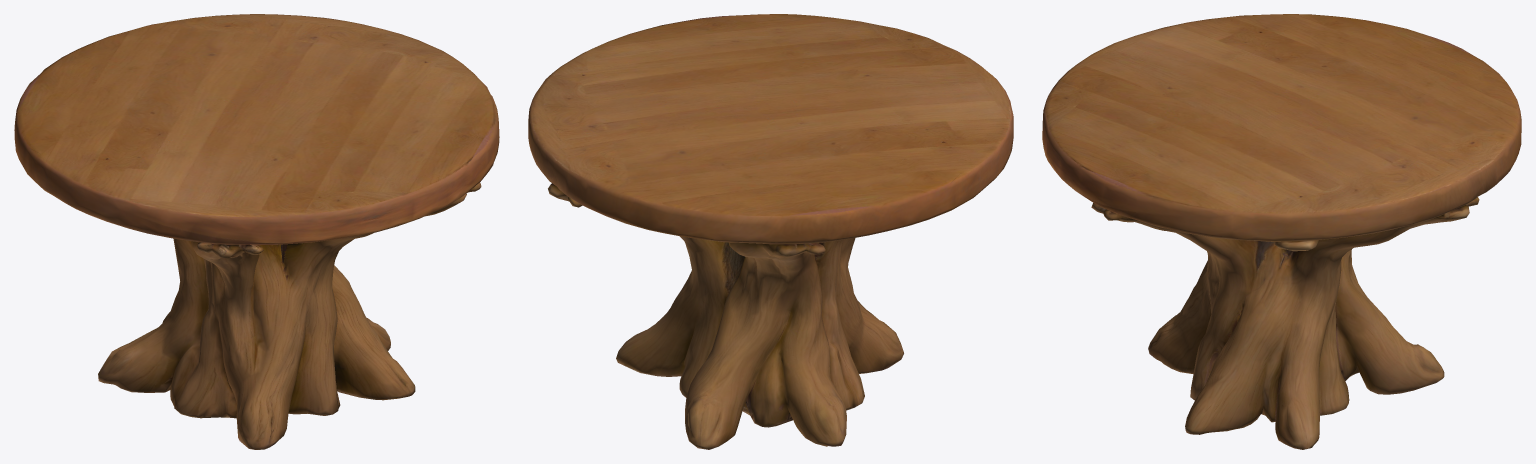
File: Meshy_AI_TREE_TABLE_0301170710_texture.glb
3 views of the same model, side by side, from view 1: azimuth 30°, elevation 25°; view 2: azimuth 150°, elevation 25°; view 3: azimuth 270°, elevation 25° (orthographic).
Size of the model in its own units: 2 by 1.29 by 2.01.
1 material, 1 textured.
